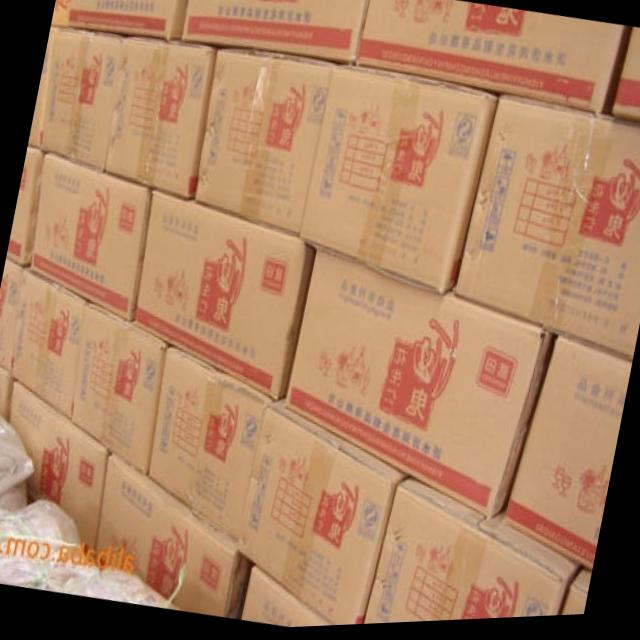box: (283, 248, 559, 523), (453, 97, 640, 363), (298, 69, 499, 298), (135, 190, 318, 403), (235, 400, 405, 628), (362, 479, 584, 627), (356, 0, 628, 117), (505, 337, 633, 574), (196, 50, 340, 236), (96, 453, 253, 618), (146, 348, 269, 543), (29, 154, 149, 324), (6, 378, 111, 562), (103, 38, 216, 201), (74, 303, 165, 477), (179, 0, 369, 68), (40, 27, 124, 171), (12, 268, 82, 422), (239, 567, 338, 629), (52, 0, 185, 41), (8, 143, 43, 269), (29, 25, 54, 151), (0, 258, 25, 377), (609, 35, 640, 127), (559, 573, 592, 620), (0, 369, 12, 417)
